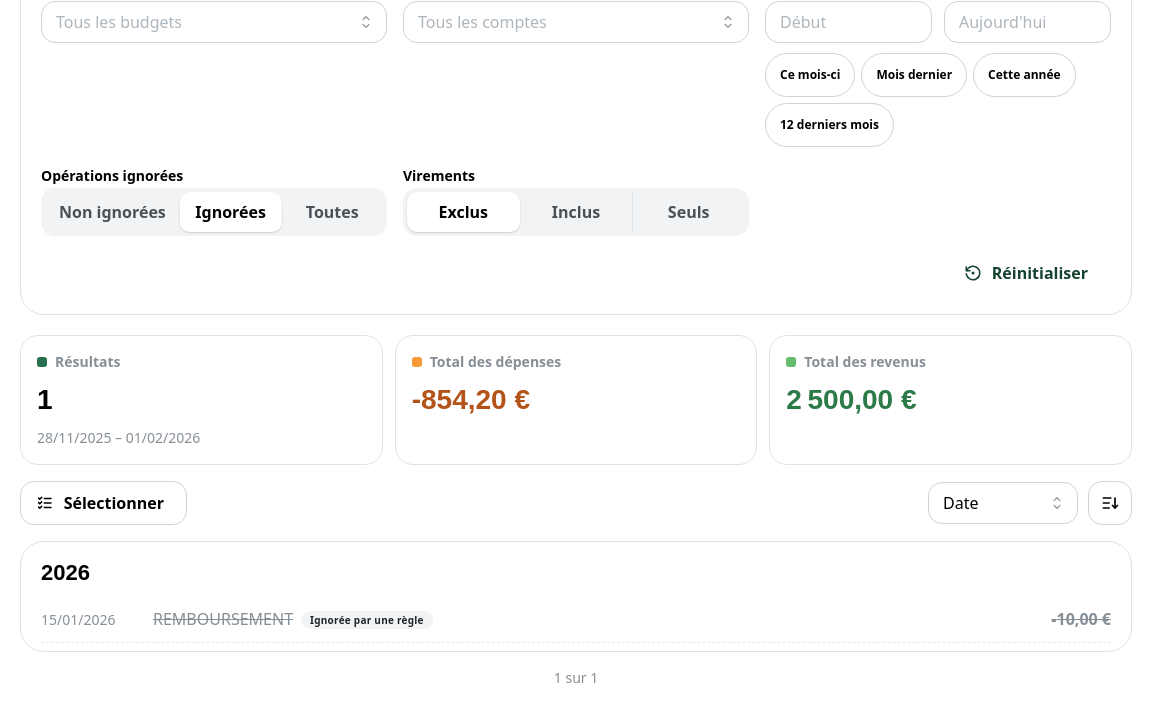
Test: SearchPage › names the rule that ignored an operation in its sheet
(page scrolled)
Click the button "REMBOURSEMENT Ignorée par une règle -10,00 €" at (223, 619), box [41,598,1111,642]
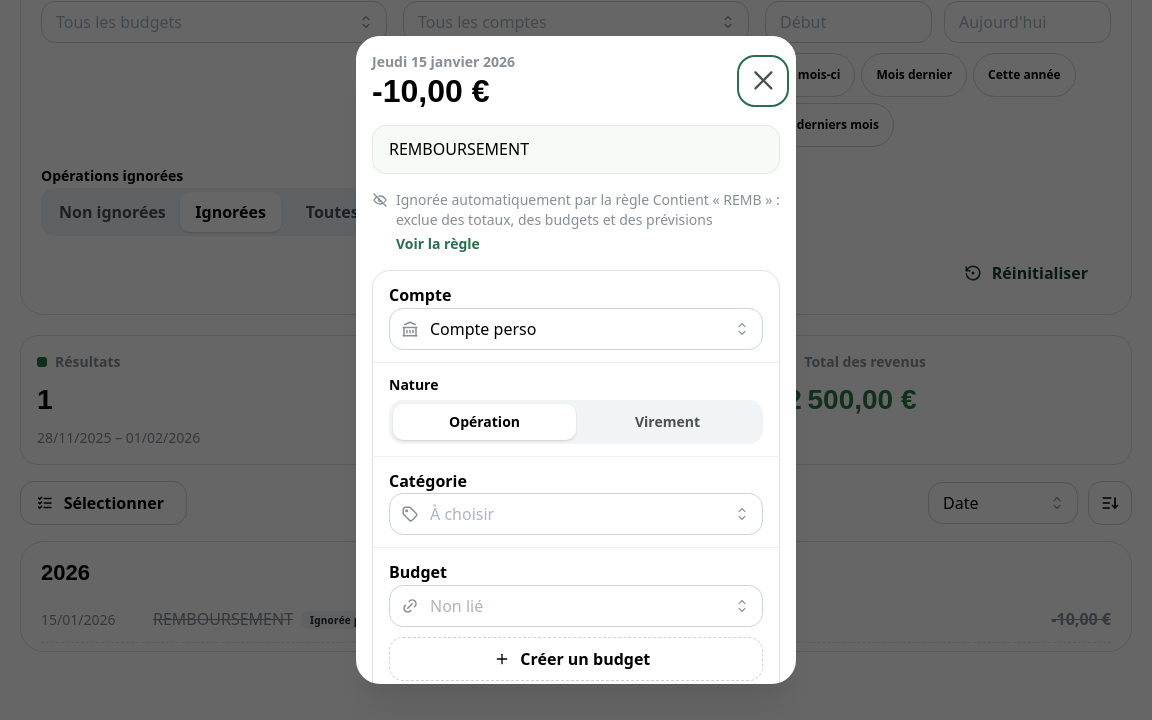
Expected: the text "Ignorée automatiquement par la règle Contient « REMB »" is shown, [396,190,780,229]
